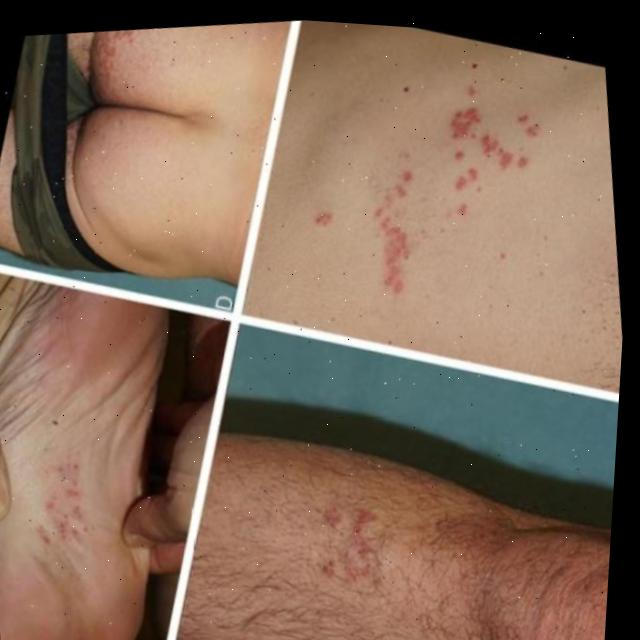Shingles: (358, 85, 578, 327), (298, 489, 395, 600), (30, 447, 98, 552), (85, 27, 137, 94)
